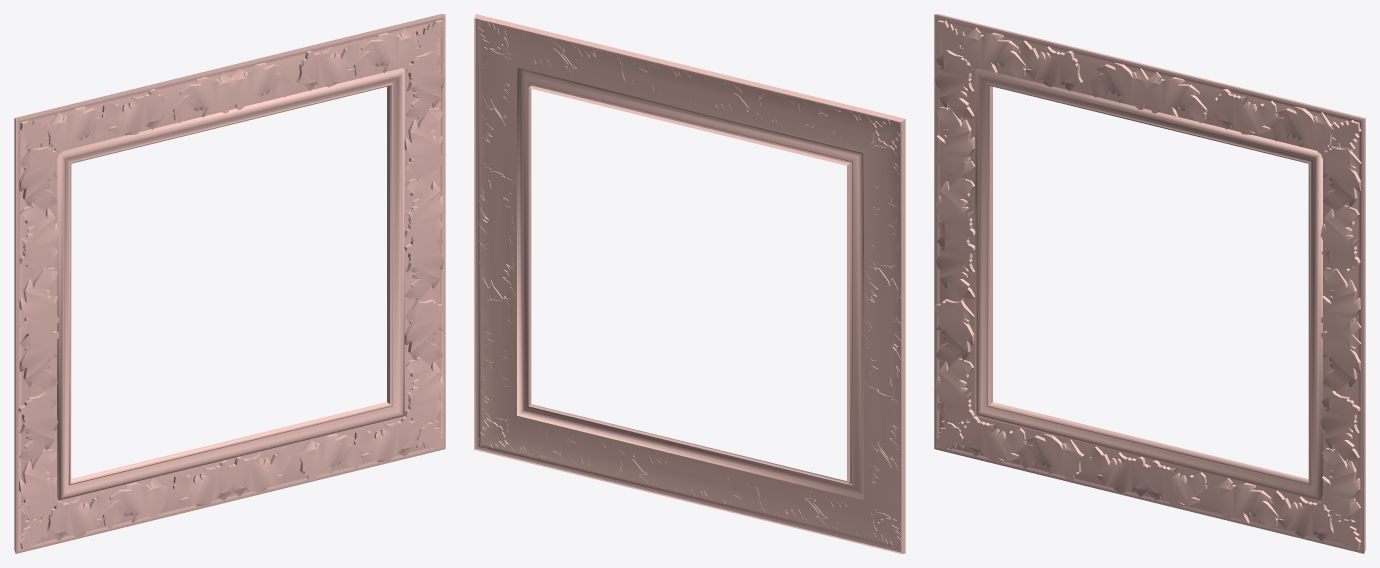
File: emptyPicture.FBX
3 renders of one model, left to right at view 1: azimuth 30°, elevation 25°; view 2: azimuth 150°, elevation 25°; view 3: azimuth 330°, elevation 25°, orthographic.
Parts seen in each view (by area): view 1: Frame; view 2: Frame; view 3: Frame.
Part boxes in pixels (x1,y1,x2,y2): Frame: [14, 14, 445, 553]; Frame: [474, 14, 905, 553]; Frame: [934, 14, 1365, 553].
Bounding box in the file's own units: 77.71 × 75.11 × 1.68.
